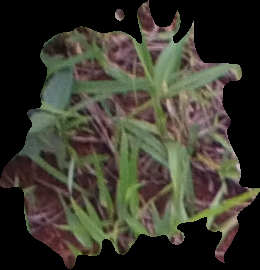grass: (1, 1, 259, 267)
